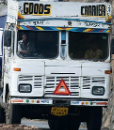truck: (1, 1, 109, 130)
